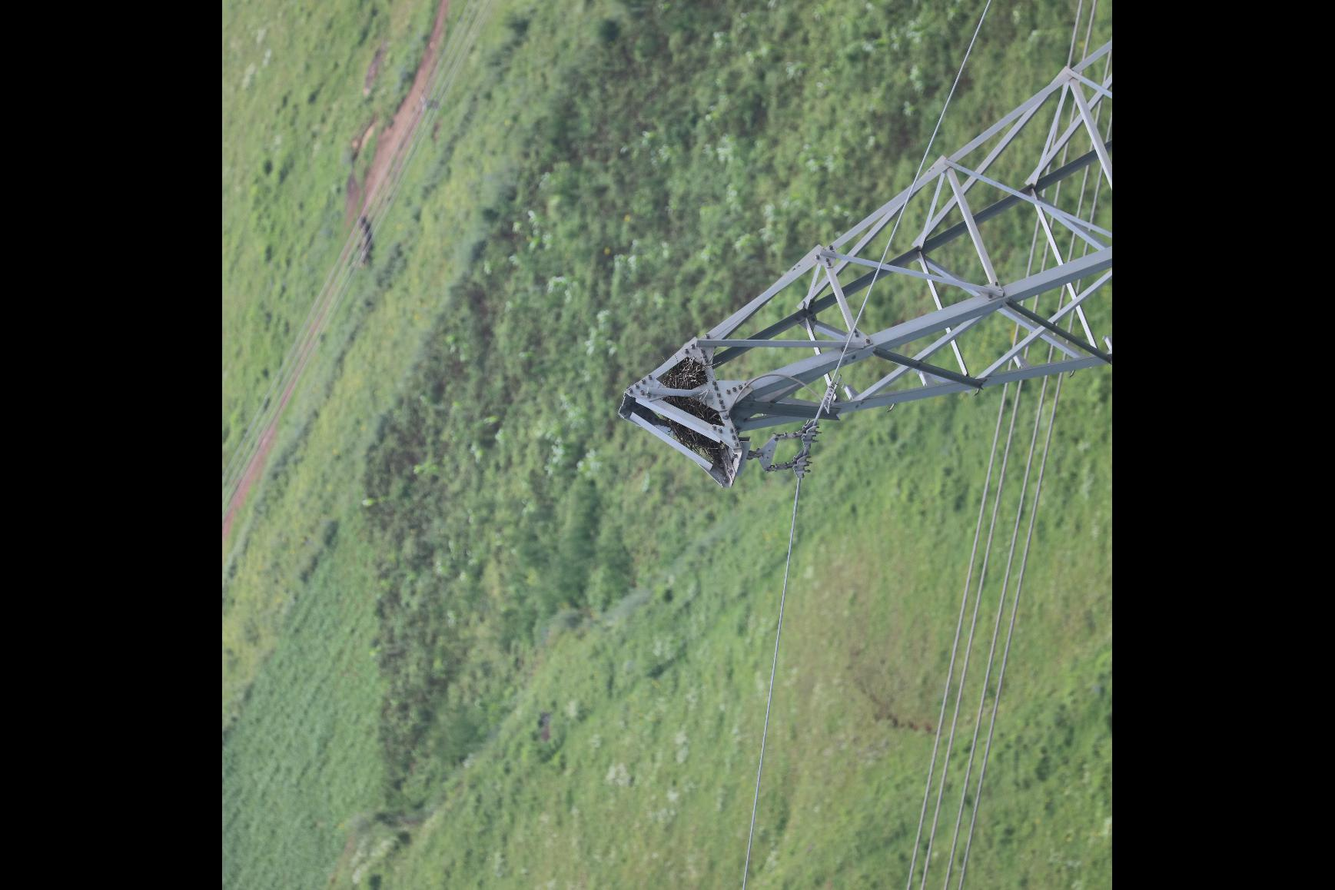nest: (657, 357, 725, 458)
